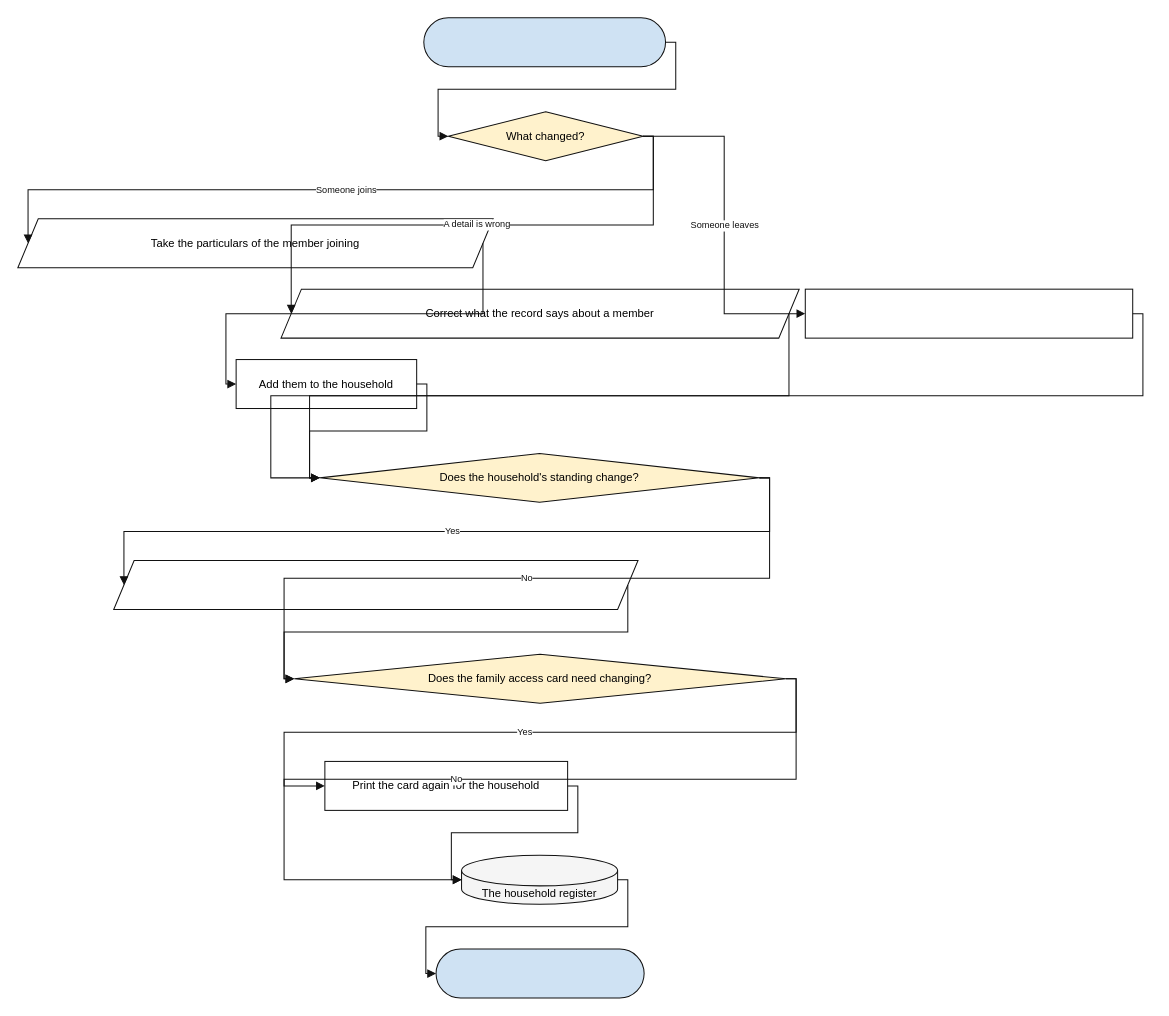
This 1169x1016 diagram has some shape labels left out. The shapes that lost their labels are listed below. From the top down, each one's centre as x and y in pixels, then its label:
At (544,42): "A household's circumstances change".
At (968,313): "Note that a member is no longer with the household".
At (375,584): "Note the new standing, its income or its listing".
At (539,973): "The household record is current".
